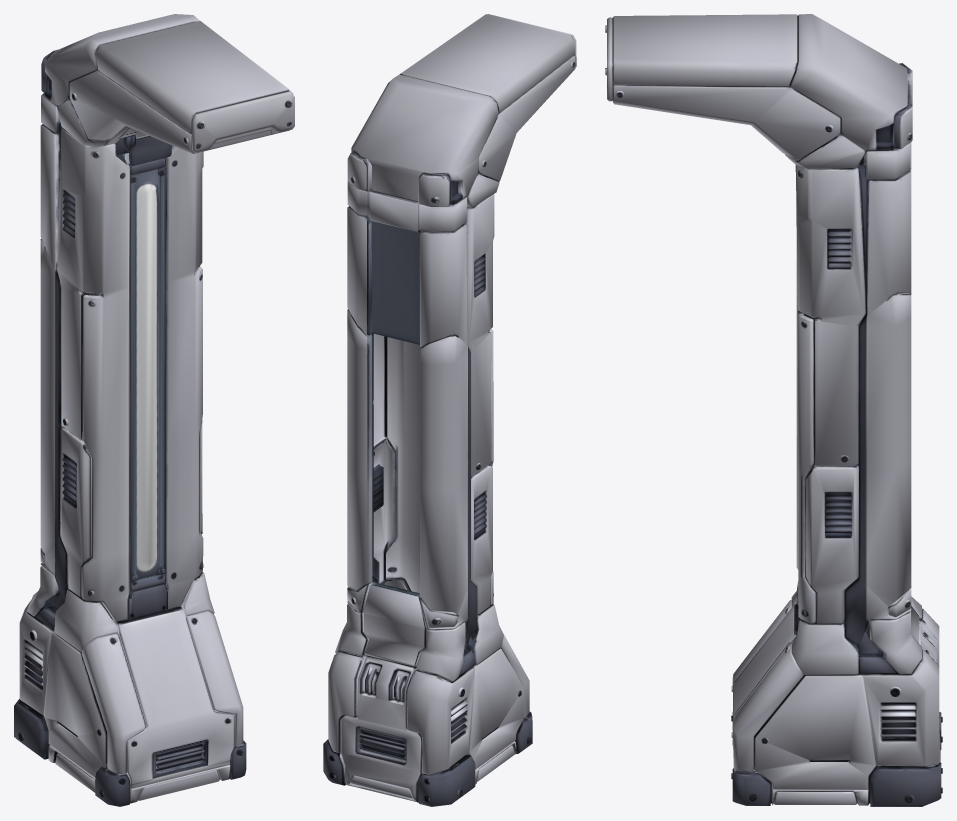
Rendered from WallPillar.glb.
3 renders of one model, left to right at view 1: azimuth 30°, elevation 25°; view 2: azimuth 150°, elevation 25°; view 3: azimuth 270°, elevation 25°, orthographic. The views are drawn at different scales.
Parts seen in each view (by area): view 1: tripo_node_fa451b42-0e70-4153-9566-a230c54daa4c; view 2: tripo_node_fa451b42-0e70-4153-9566-a230c54daa4c; view 3: tripo_node_fa451b42-0e70-4153-9566-a230c54daa4c.
Part boxes in pixels (box(x1,y1,x2,y2)): tripo_node_fa451b42-0e70-4153-9566-a230c54daa4c: box(14, 14, 294, 806); tripo_node_fa451b42-0e70-4153-9566-a230c54daa4c: box(323, 14, 576, 806); tripo_node_fa451b42-0e70-4153-9566-a230c54daa4c: box(605, 14, 942, 806).
Bounding box in the file's own units: 0.2085 × 0.9995 × 0.4155.
1 material, 1 textured.
